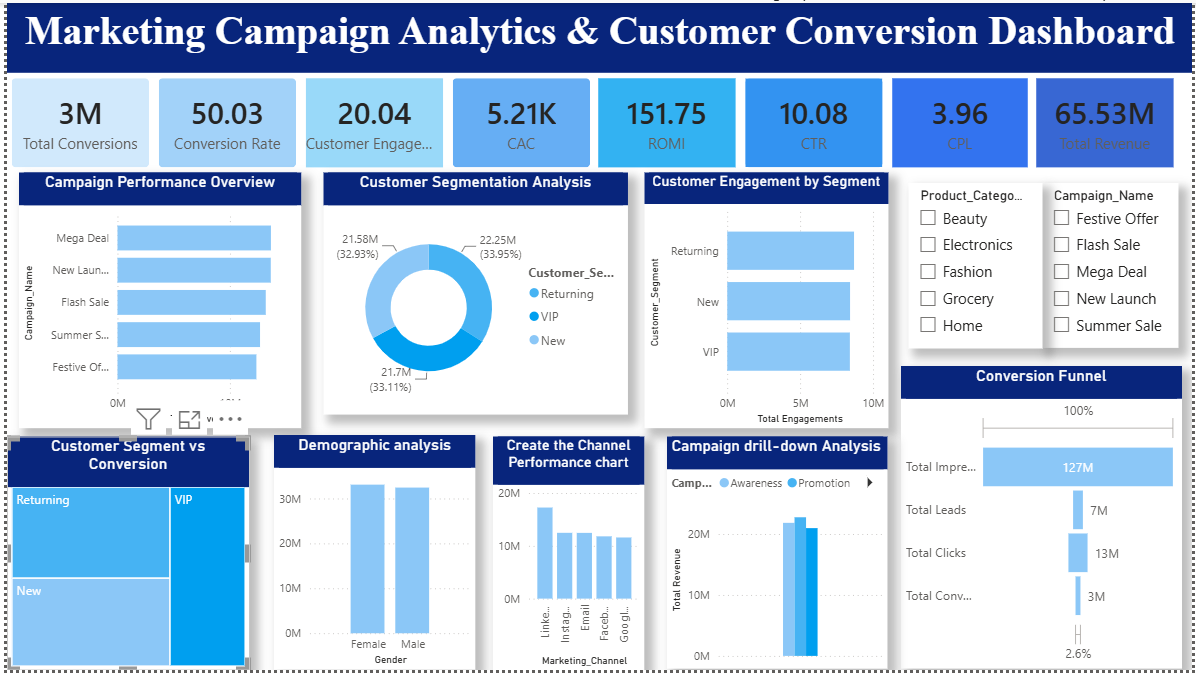

This screenshot's page, from the dashboard's own definition file:
{"tool":"powerbi","page":{"name":"Marketing_Dashboard","canvas":[1280,720],"ordinal":0},"visuals":[{"type":"textbox","box":[0,0,1280,75],"z":0},{"type":"cardVisual","fields":{"Data":["Marketing_Dataset_PowerBI.Total Conversions"]},"box":[0,75.7,158.4,106.4],"z":1000},{"type":"cardVisual","fields":{"Data":["Marketing_Dataset_PowerBI.Conversion Rate"]},"box":[158.4,75.7,158.4,106.4],"z":2000},{"type":"cardVisual","fields":{"Data":["Marketing_Dataset_PowerBI.CAC"]},"box":[475.3,75.7,158.4,106.4],"z":3000},{"type":"cardVisual","fields":{"Data":["Marketing_Dataset_PowerBI.ROMI"]},"box":[633.7,75.7,158.4,106.4],"z":4000},{"type":"cardVisual","fields":{"Data":["Marketing_Dataset_PowerBI.CTR"]},"box":[792.1,75.7,158.4,106.4],"z":5000},{"type":"cardVisual","fields":{"Data":["Marketing_Dataset_PowerBI.CPL"]},"box":[950.5,75.7,156.1,106.4],"z":6000},{"type":"cardVisual","fields":{"Data":["Marketing_Dataset_PowerBI.Customer Engagement Rate"]},"box":[316.8,75.7,158.4,106.4],"z":7000},{"type":"cardVisual","fields":{"Data":["Marketing_Dataset_PowerBI.Total Revenue"]},"box":[1106.6,75.7,158.4,106.4],"z":8000},{"type":"clusteredBarChart","title":"Campaign Performance Overview","fields":{"Category":["Marketing_Dataset_PowerBI.Campaign_Name"],"Y":["Marketing_Dataset_PowerBI.Total Revenue"]},"box":[12.6,182.3,305,276.1],"z":8001},{"type":"donutChart","title":"Customer Segmentation Analysis","fields":{"Category":["Marketing_Dataset_PowerBI.Customer_Segment"],"Y":["Marketing_Dataset_PowerBI.Total Revenue"]},"box":[341.1,182.3,328.4,261.7],"z":8002},{"type":"columnChart","title":"Demographic analysis","fields":{"Category":["Marketing_Dataset_PowerBI.Gender"],"Y":["Marketing_Dataset_PowerBI.Total Revenue"]},"box":[288.5,465.8,217.5,253],"z":8004},{"type":"columnChart","title":"Create the Channel Performance chart","fields":{"Category":["Marketing_Dataset_PowerBI.Marketing_Channel"],"Y":["Marketing_Dataset_PowerBI.Total Revenue"]},"box":[524.9,468.2,163.2,253],"z":8005},{"type":"barChart","title":"Customer Engagement by Segment","fields":{"Y":["Marketing_Dataset_PowerBI.Total Engagements"],"Category":["Marketing_Dataset_PowerBI.Customer_Segment"]},"box":[687.5,182.3,263.5,276.1],"z":8006},{"type":"funnel","title":"Conversion Funnel","fields":{"Y":["Marketing_Dataset_PowerBI.Total Impressions","Marketing_Dataset_PowerBI.Total Leads","Marketing_Dataset_PowerBI.Total Clicks","Marketing_Dataset_PowerBI.Total Conversions"]},"box":[965.4,391.6,303.2,326.6],"z":8007},{"type":"slicer","fields":{"Values":["Marketing_Dataset_PowerBI.Campaign_Name"]},"box":[1117.3,194.3,147.3,178.1],"z":8008},{"type":"slicer","fields":{"Values":["Marketing_Dataset_PowerBI.Product_Category"]},"box":[972.6,194.9,144.4,178.6],"z":8009},{"type":"clusteredColumnChart","title":"Campaign drill-down Analysis","fields":{"Series":["Marketing_Dataset_PowerBI.Campaign_Type"],"Y":["Marketing_Dataset_PowerBI.Total Revenue"]},"box":[712.8,467.4,238.2,250.8],"z":8010},{"type":"treemap","title":"Customer Segment vs Conversion","fields":{"Group":["Marketing_Dataset_PowerBI.Customer_Segment"],"Values":["Marketing_Dataset_PowerBI.Total Conversions"]},"box":[0,467.4,261.7,252.6],"z":8011}]}

Visuals, with their boxes in screenshot pixels (x1, y1, x2, y2), scaled from the page's 1280x720 canvas onto the 1196x676 screenshot:
textbox: [x1=0, y1=0, x2=1195, y2=70]
cardVisual - Marketing_Dataset_PowerBI.Total Conversions: [x1=0, y1=71, x2=148, y2=171]
cardVisual - Marketing_Dataset_PowerBI.Conversion Rate: [x1=148, y1=71, x2=296, y2=171]
cardVisual - Marketing_Dataset_PowerBI.CAC: [x1=444, y1=71, x2=592, y2=171]
cardVisual - Marketing_Dataset_PowerBI.ROMI: [x1=592, y1=71, x2=740, y2=171]
cardVisual - Marketing_Dataset_PowerBI.CTR: [x1=740, y1=71, x2=888, y2=171]
cardVisual - Marketing_Dataset_PowerBI.CPL: [x1=888, y1=71, x2=1034, y2=171]
cardVisual - Marketing_Dataset_PowerBI.Customer Engagement Rate: [x1=296, y1=71, x2=444, y2=171]
cardVisual - Marketing_Dataset_PowerBI.Total Revenue: [x1=1034, y1=71, x2=1182, y2=171]
"Campaign Performance Overview" clusteredBarChart: [x1=12, y1=171, x2=297, y2=430]
"Customer Segmentation Analysis" donutChart: [x1=319, y1=171, x2=626, y2=417]
"Demographic analysis" columnChart: [x1=270, y1=437, x2=473, y2=675]
"Create the Channel Performance chart" columnChart: [x1=490, y1=440, x2=643, y2=675]
"Customer Engagement by Segment" barChart: [x1=642, y1=171, x2=889, y2=430]
"Conversion Funnel" funnel: [x1=902, y1=368, x2=1185, y2=674]
slicer - Marketing_Dataset_PowerBI.Campaign_Name: [x1=1044, y1=182, x2=1182, y2=350]
slicer - Marketing_Dataset_PowerBI.Product_Category: [x1=909, y1=183, x2=1044, y2=351]
"Campaign drill-down Analysis" clusteredColumnChart: [x1=666, y1=439, x2=889, y2=674]
"Customer Segment vs Conversion" treemap: [x1=0, y1=439, x2=245, y2=675]
